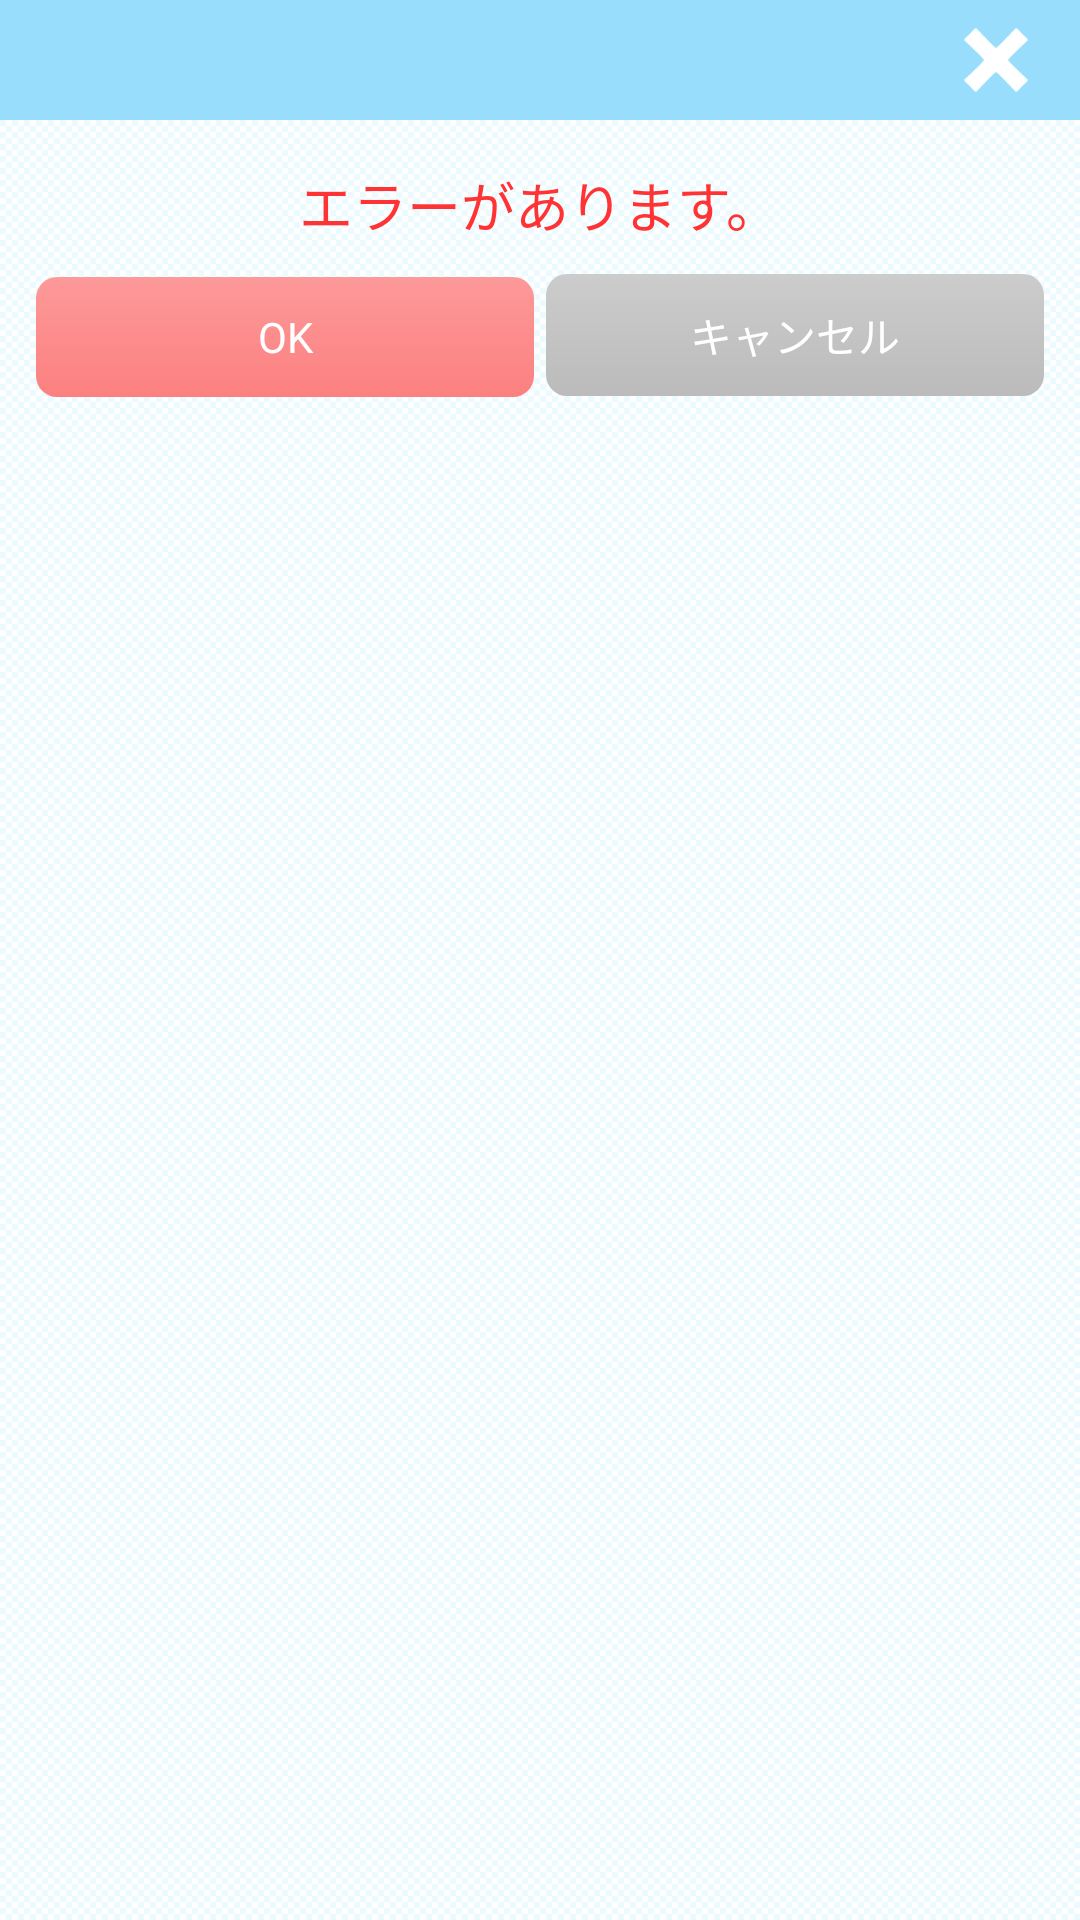

Named icons in this screenshot (1080px x 1920px) and their centers, (x=x, y=y):
close: (x=996, y=60)
